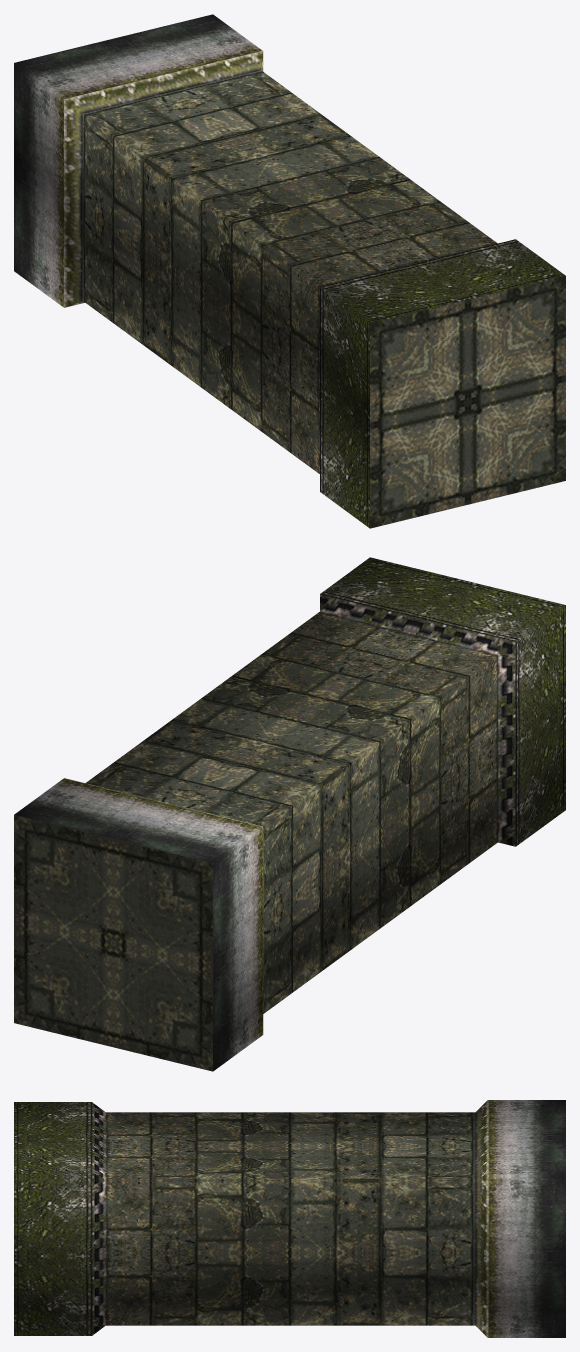
Rendered from Lab_ColumnBig.gltf.
3 renders of one model, top to bottom at view 1: azimuth 30°, elevation 25°; view 2: azimuth 150°, elevation 25°; view 3: azimuth 270°, elevation 25°, orthographic. The views are drawn at different scales.
Visible parts, largest first — view 1: Lab_ColumnBig; view 2: Lab_ColumnBig; view 3: Lab_ColumnBig.
Part boxes in pixels (box(x1,y1,x2,y2)): Lab_ColumnBig: box(14, 14, 565, 528); Lab_ColumnBig: box(14, 557, 565, 1071); Lab_ColumnBig: box(14, 1100, 565, 1337).
Bounding box in the file's own units: 0.0158 × 0.0158 × 0.0488.
1 material, 1 textured.
